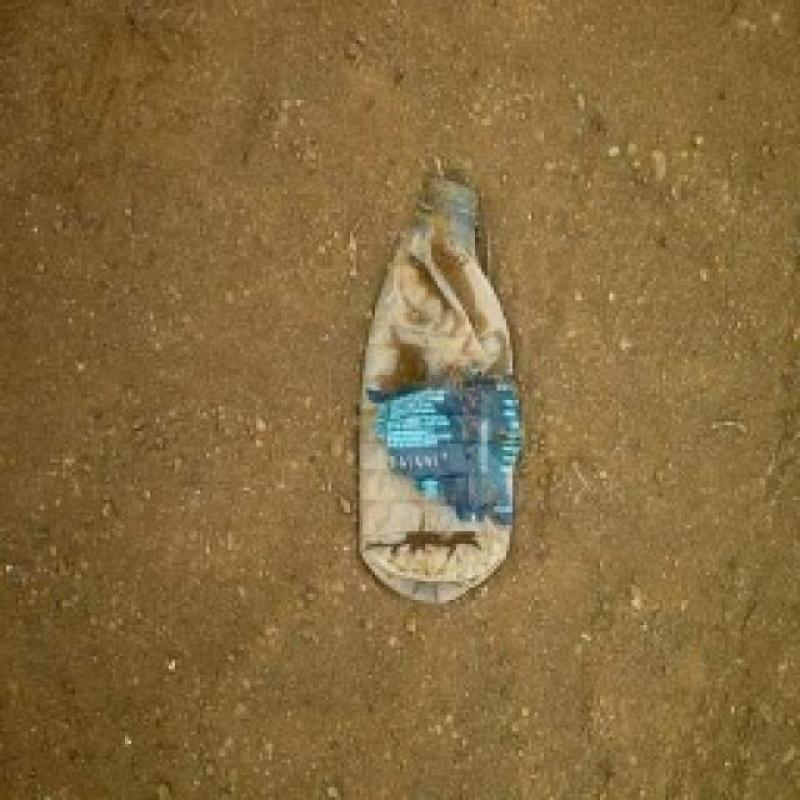botella: (359, 179, 522, 602)
